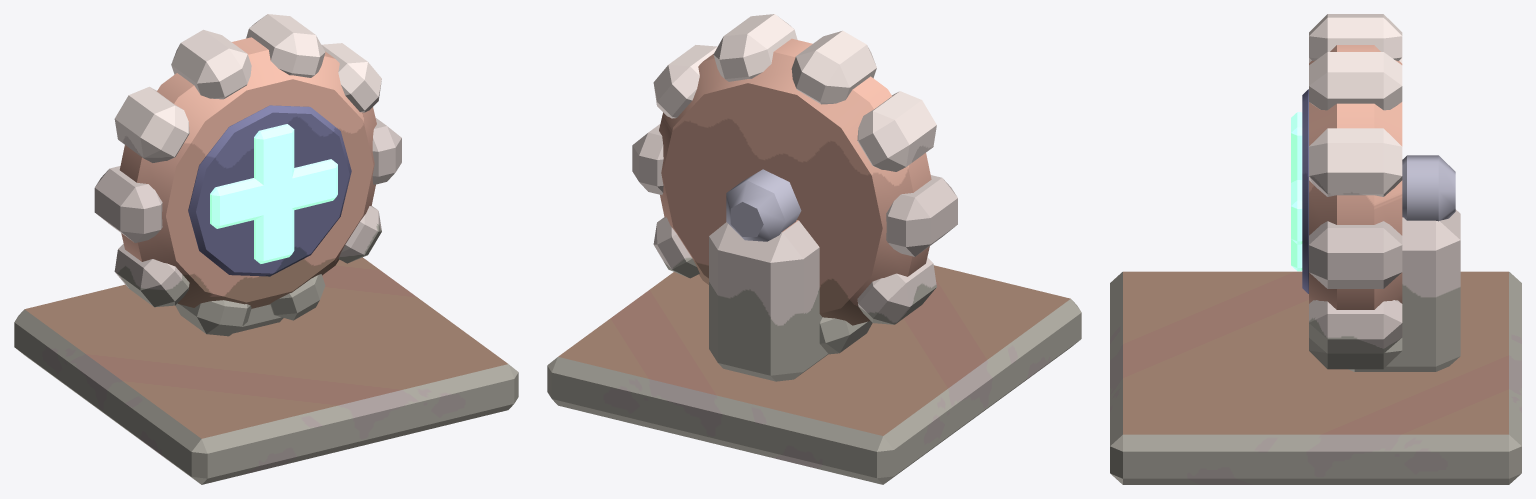
The model's file is R4X_RepairBooster_LOD1.glb.
3 renders of one model, left to right at view 1: azimuth 30°, elevation 25°; view 2: azimuth 150°, elevation 25°; view 3: azimuth 270°, elevation 25°, orthographic. The views are drawn at different scales.
Visible parts, largest first — view 1: R4X_RepairBooster_LOD1; view 2: R4X_RepairBooster_LOD1; view 3: R4X_RepairBooster_LOD1.
Part boxes in pixels (x1,y1,x2,y2): R4X_RepairBooster_LOD1: [14, 14, 518, 484]; R4X_RepairBooster_LOD1: [547, 14, 1081, 484]; R4X_RepairBooster_LOD1: [1110, 14, 1521, 484].
Size of the model in its own units: 0.52 by 0.5136 by 0.52.
Materials: 5 (4 with a texture image).
